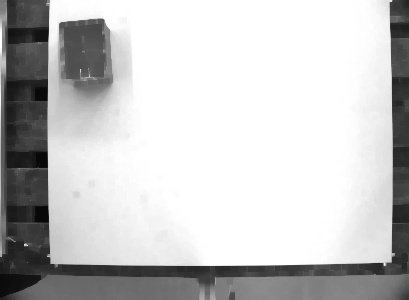klts: (55, 15, 116, 88)
